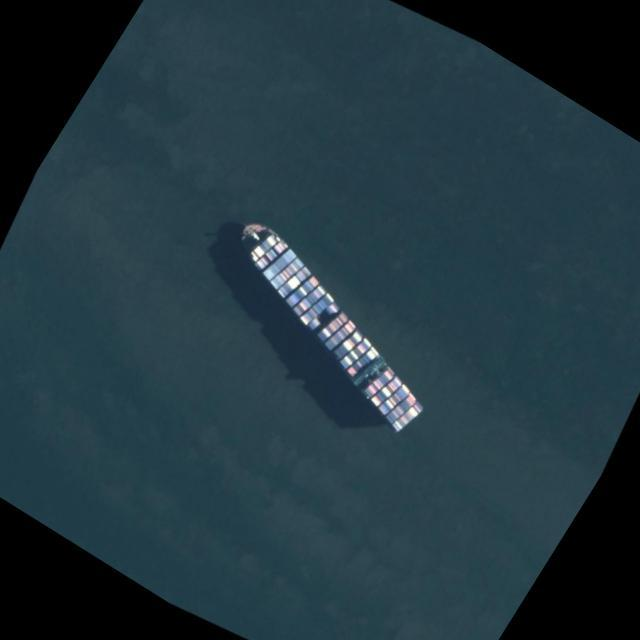ship: (239, 213, 427, 431)
